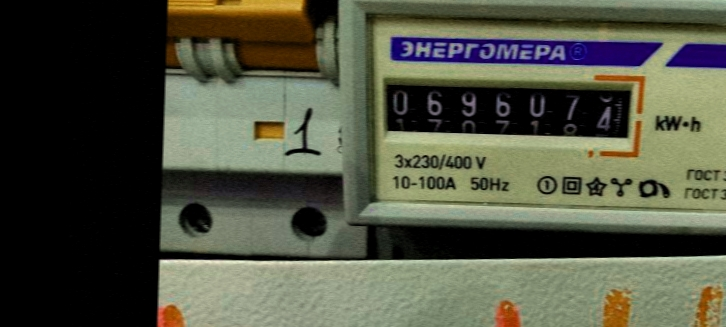0: (391, 86, 411, 115), (527, 89, 547, 117)
4: (595, 103, 614, 132)
6: (494, 88, 513, 117), (425, 88, 444, 115)
7: (562, 90, 582, 121)
9: (459, 89, 478, 117)
screen: (369, 62, 651, 158)
